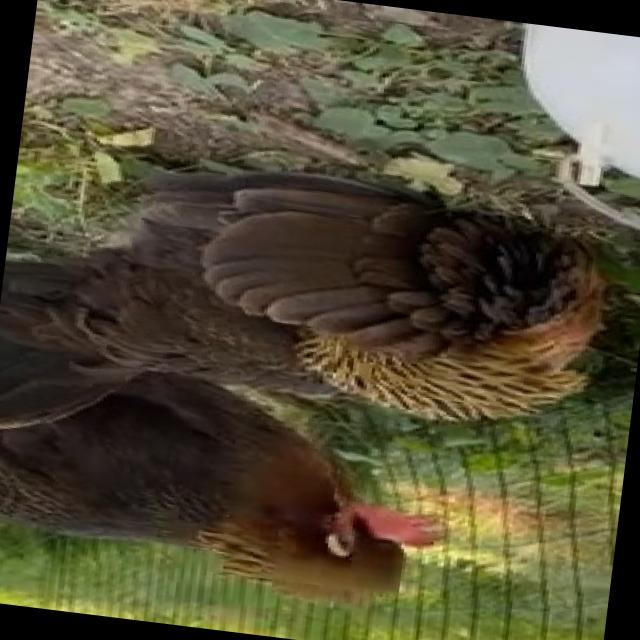self preening: (42, 147, 640, 448), (0, 341, 441, 640)
